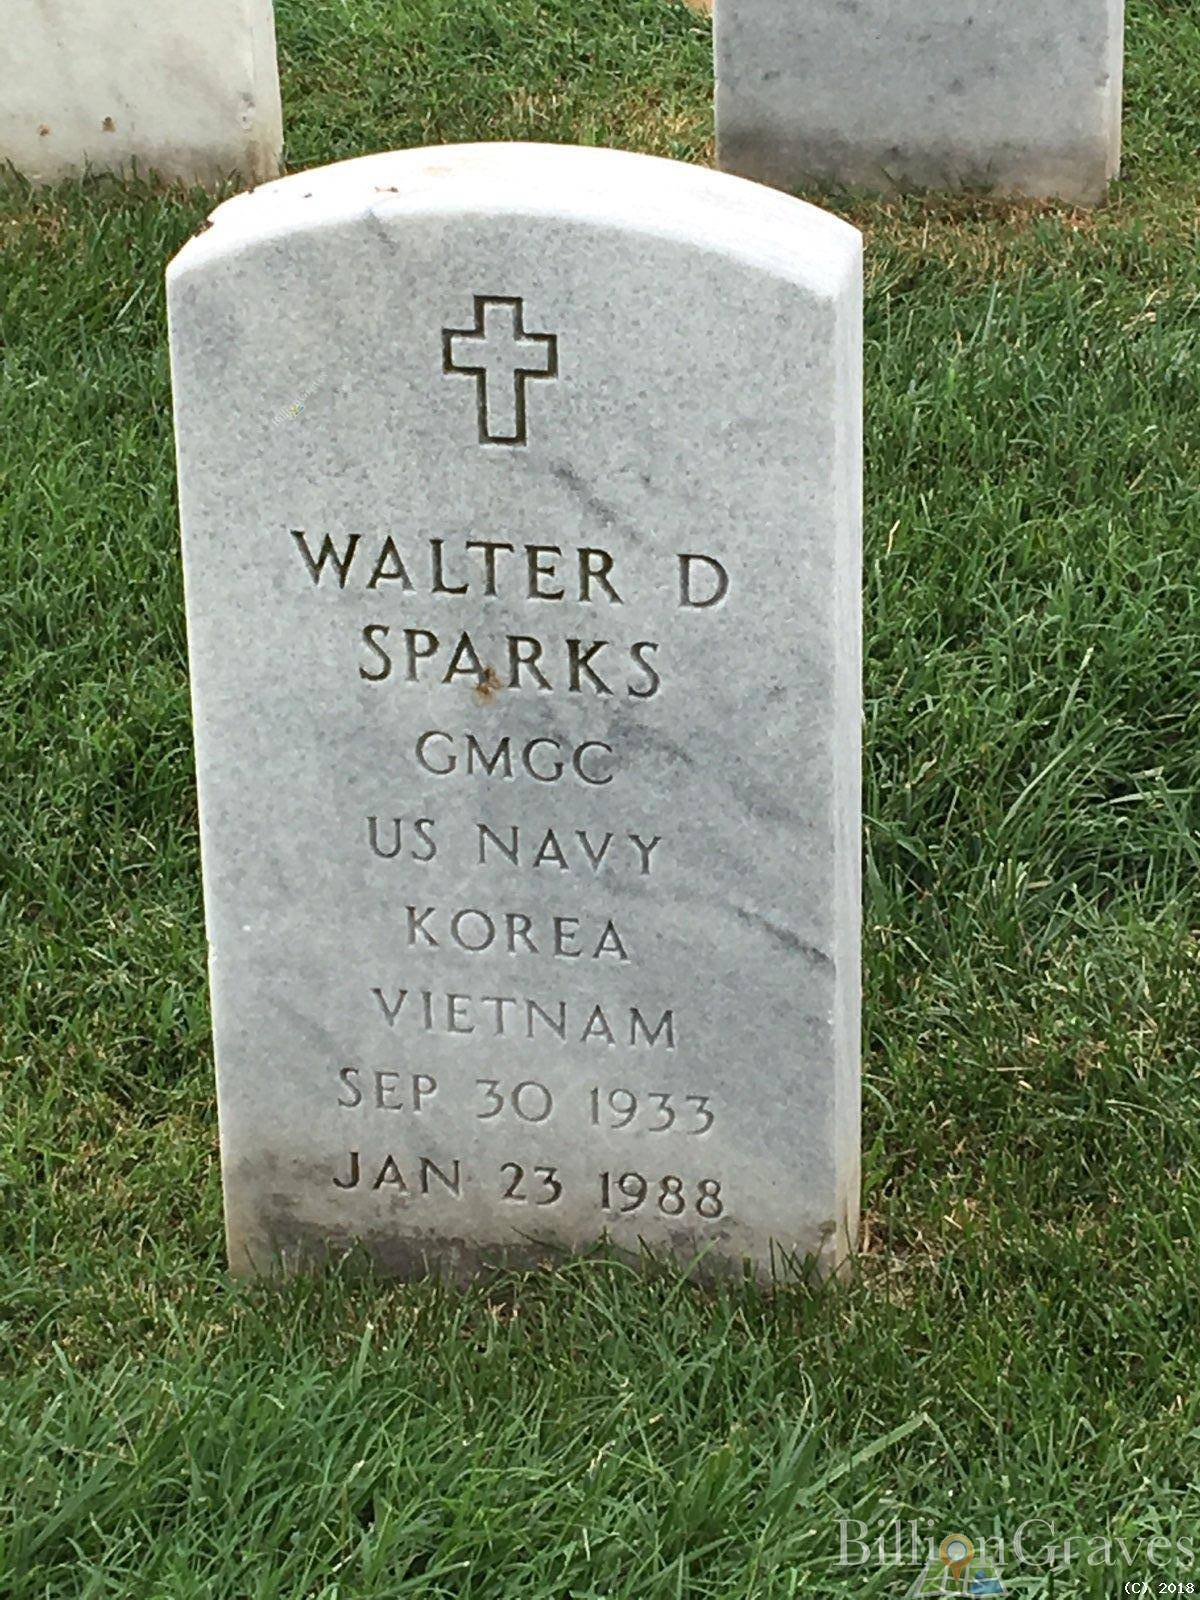military: (159, 147, 872, 1259)
